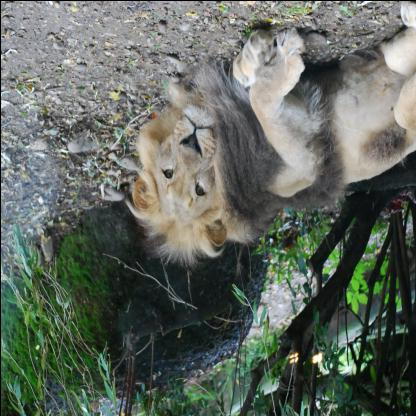lion: (126, 99, 228, 259)
